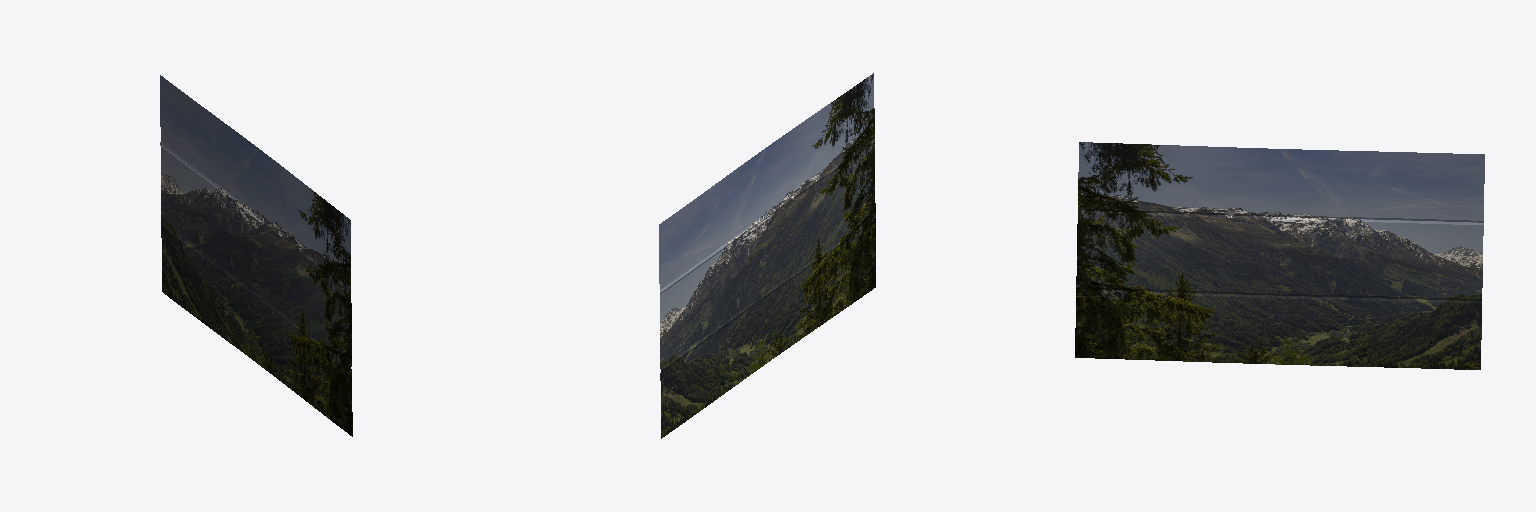
3 views of the same model, side by side, from view 1: azimuth 30°, elevation 25°; view 2: azimuth 150°, elevation 25°; view 3: azimuth 270°, elevation 25° (orthographic).
Visible parts, largest first — view 1: ppPaper; view 2: ppPaper; view 3: ppPaper.
Boxes of the visible parts, <box> form: ppPaper: <box>160,75,352,436</box>; ppPaper: <box>659,73,875,438</box>; ppPaper: <box>1075,142,1484,369</box>.
Bounding box in the file's own units: 1.03 × 16.68 × 27.9.
1 materials, 1 textured.